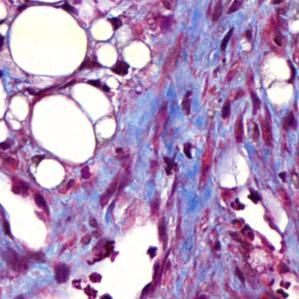steatosis: (8, 4, 89, 77), (29, 95, 96, 166)
